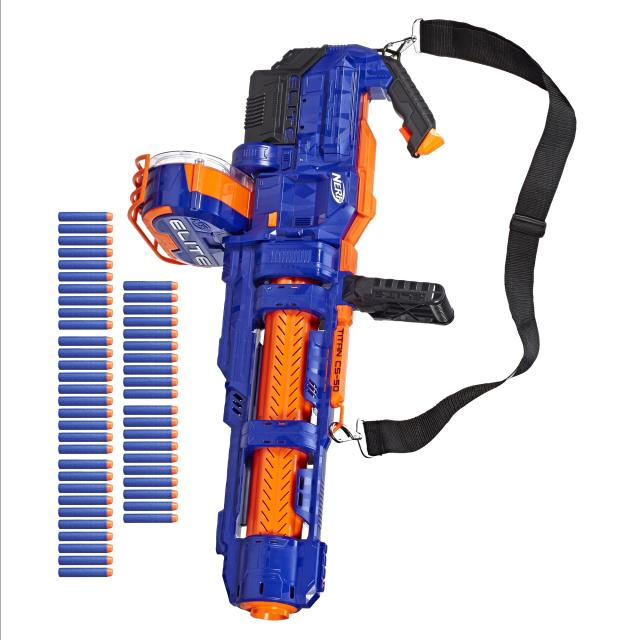Nerf gun: (126, 39, 444, 624)
